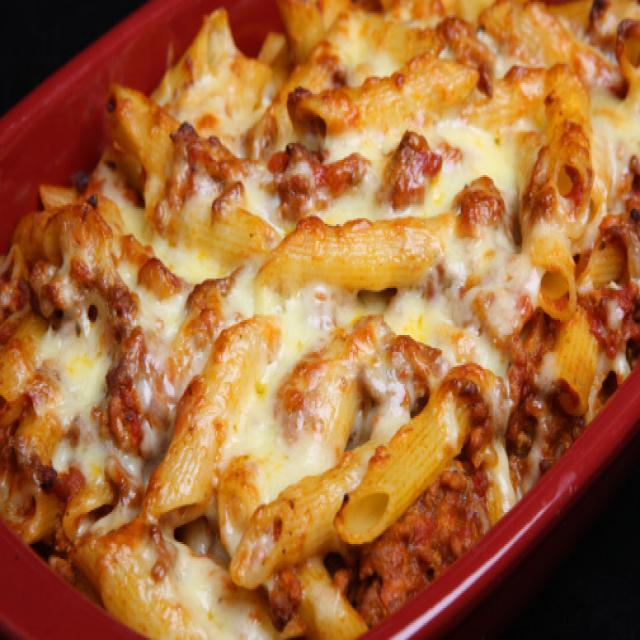Pasta al ragu: (5, 21, 609, 603)
